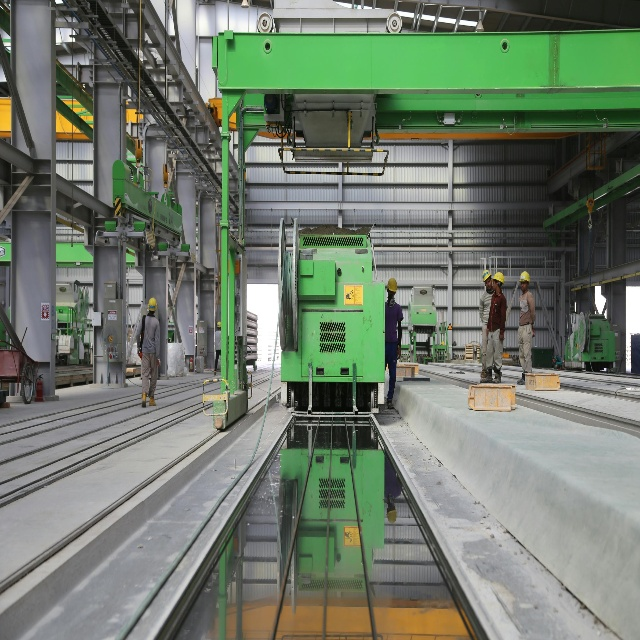Guantes: (157, 358, 161, 367)
Sin_guantes: (396, 346, 401, 359), (499, 333, 504, 341), (485, 328, 489, 336)
